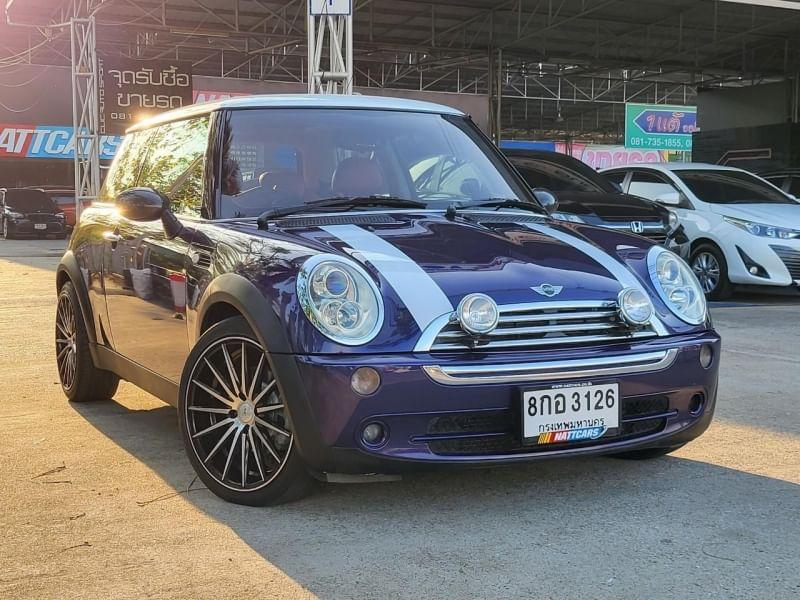license-plate: (511, 373, 626, 453)
